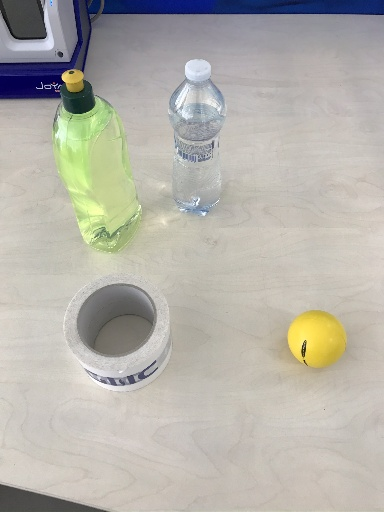Acqua: (166, 56, 227, 223)
Nastro: (61, 271, 176, 393)
Palla: (284, 309, 351, 370)
Sapone: (48, 71, 147, 251)
